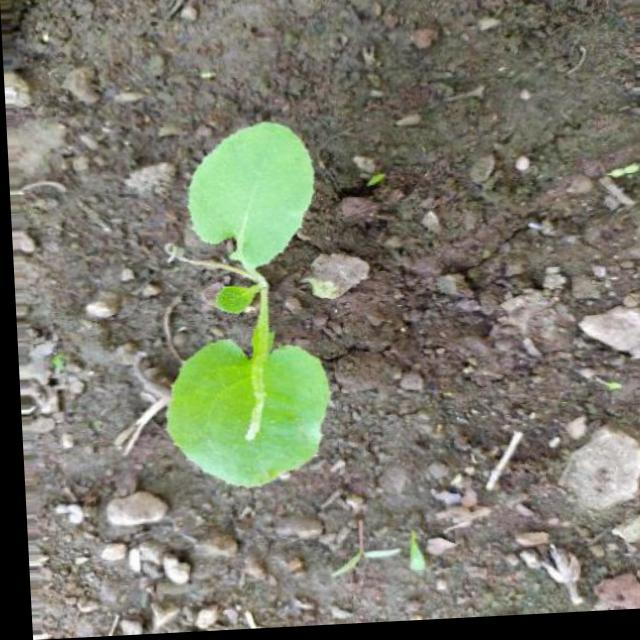weed: (151, 129, 332, 507)
